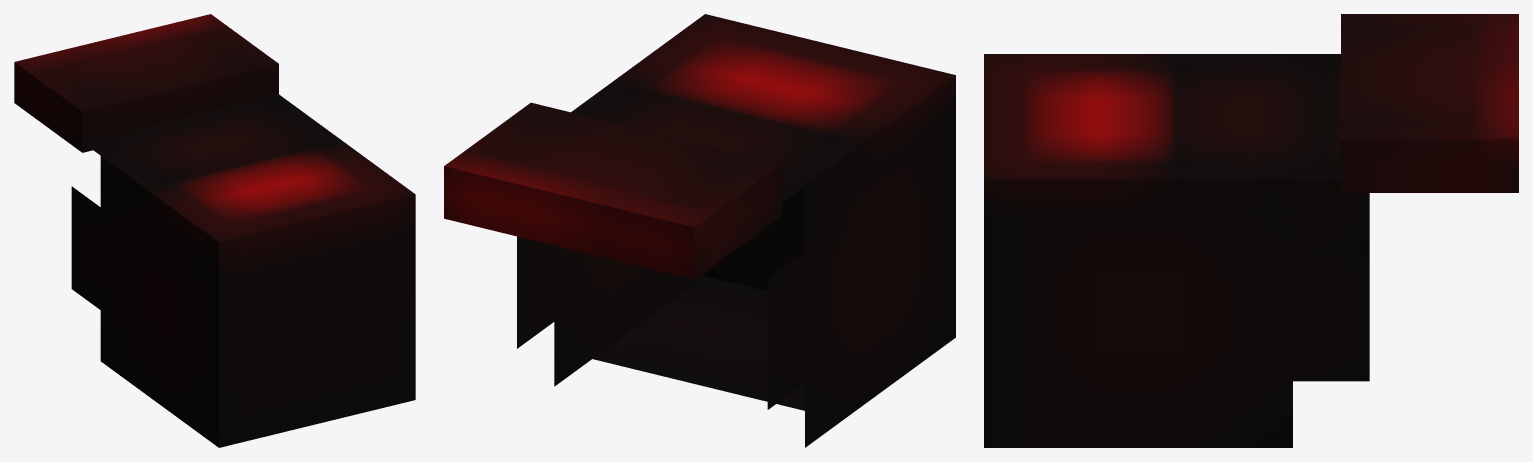
File: R_Leg_IllagerRoyalGuard.glb
3 views of the same model, side by side, from view 1: azimuth 30°, elevation 25°; view 2: azimuth 150°, elevation 25°; view 3: azimuth 270°, elevation 25° (orthographic). The views are drawn at different scales.
Visible parts, largest first — view 1: R_Leg_IllagerRoyalGuard.001; view 2: R_Leg_IllagerRoyalGuard.001; view 3: R_Leg_IllagerRoyalGuard.001.
Boxes of the visible parts, bbox=[...] form: R_Leg_IllagerRoyalGuard.001: bbox=[14, 14, 415, 447]; R_Leg_IllagerRoyalGuard.001: bbox=[444, 14, 955, 447]; R_Leg_IllagerRoyalGuard.001: bbox=[984, 14, 1518, 447].
Size of the model in its own units: 31.25 by 35.89 by 56.38.
Materials: 1 (1 with a texture image).
